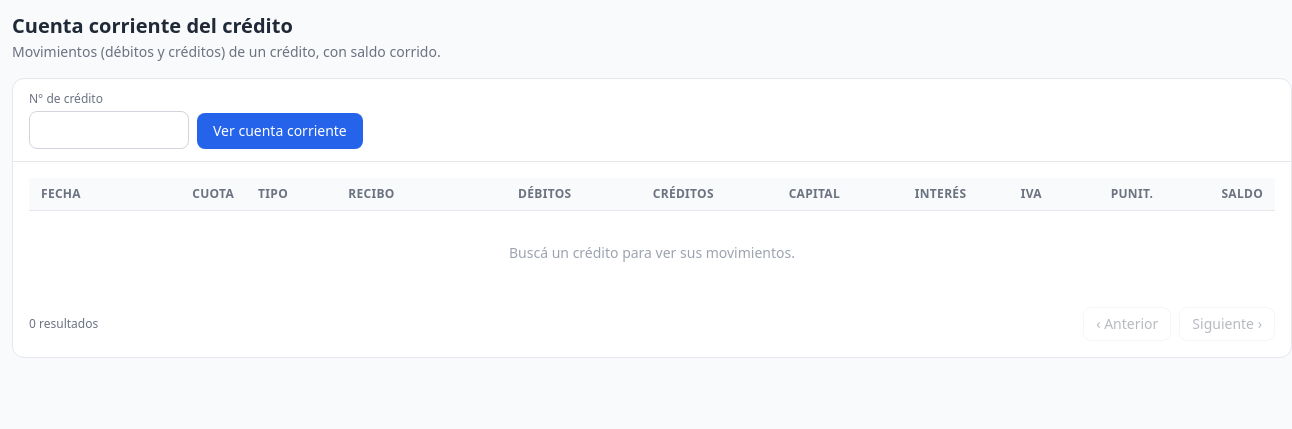
Test case: Cuenta corriente del crédito › un crédito inexistente muestra el error del backend
This screenshot has width=1292, height=429.
Type "12345" into the field labelled "N° de crédito". click: x=109, y=130
box: [29, 111, 189, 149]
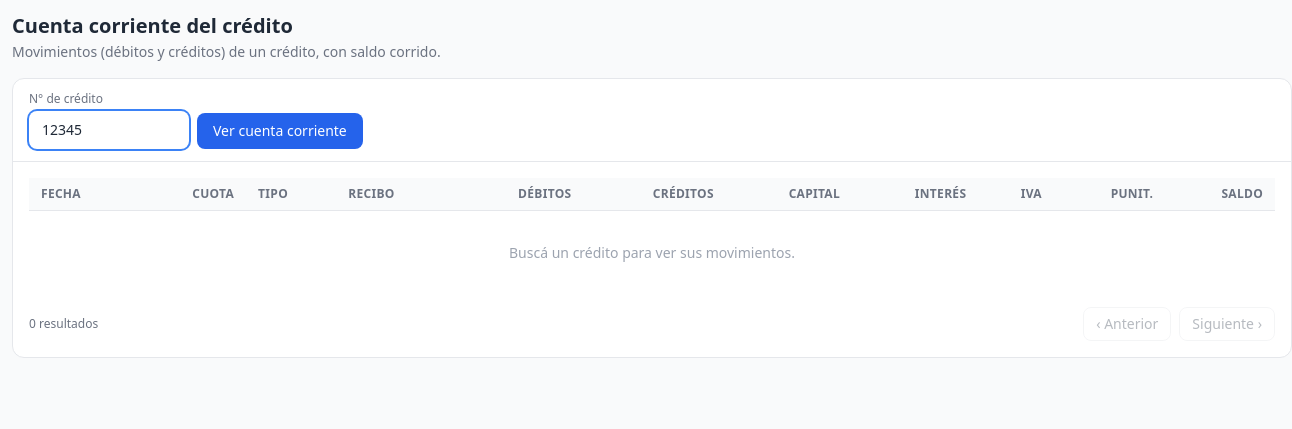
Click the button "Ver cuenta corriente". click: x=280, y=131
box: [197, 113, 363, 149]
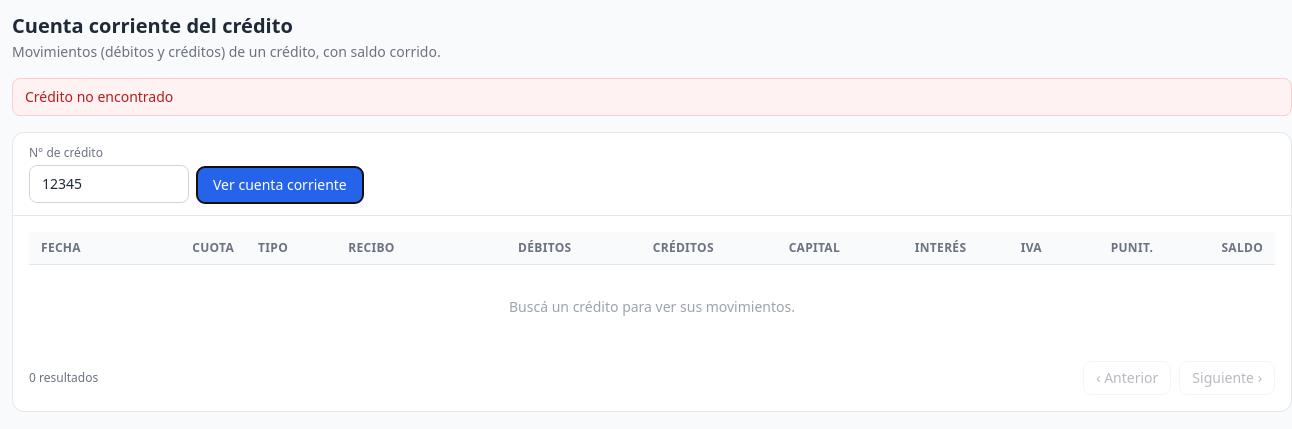
expect the text "Crédito no encontrado" is shown: met, box [12, 78, 1291, 116]
